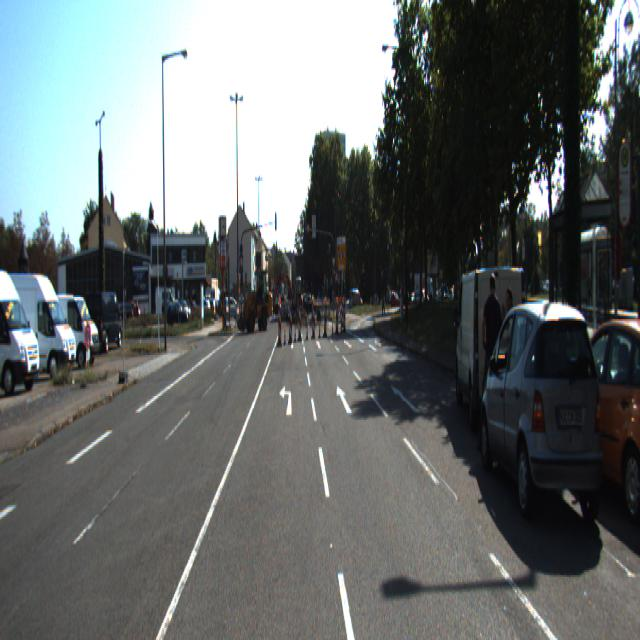Car: (476, 288, 607, 520), (550, 307, 640, 502), (454, 256, 526, 428), (0, 273, 79, 385), (0, 267, 42, 400), (40, 296, 100, 376), (236, 270, 273, 338)
